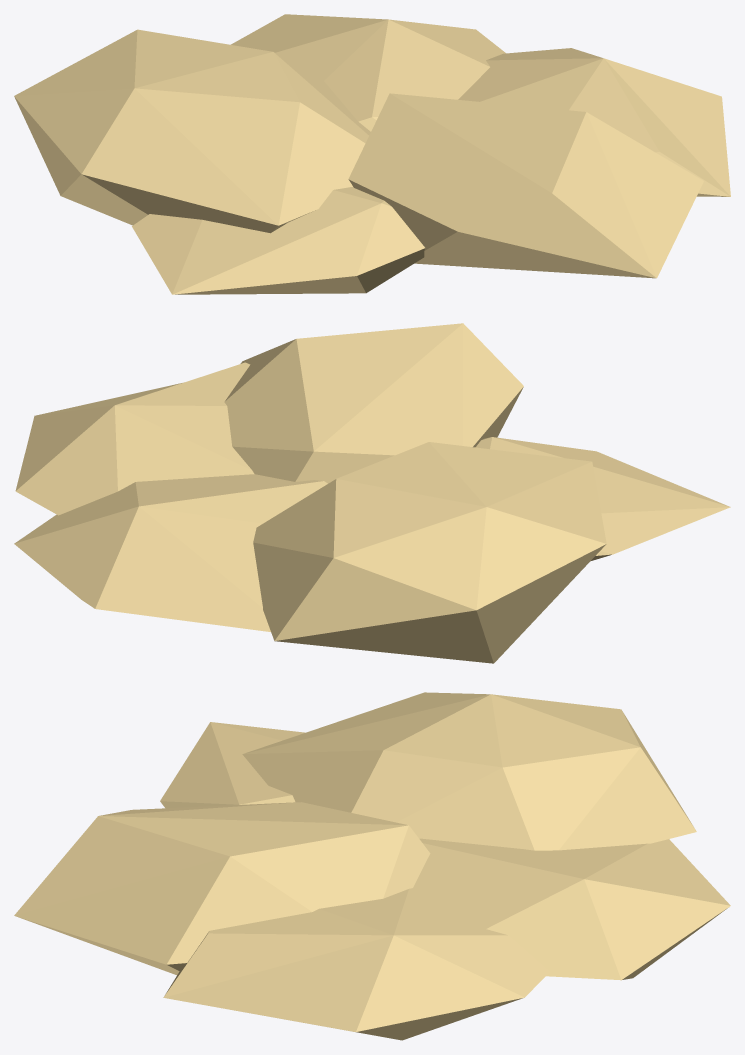
File: aq_shell_set.fbx
3 views of the same model, one above another, from view 1: azimuth 30°, elevation 25°; view 2: azimuth 150°, elevation 25°; view 3: azimuth 270°, elevation 25° (orthographic).
Parts seen in each view (by area): view 1: aq_shell_set; view 2: aq_shell_set; view 3: aq_shell_set.
Part boxes in pixels (bbox=[...]): aq_shell_set: bbox=[14, 14, 730, 294]; aq_shell_set: bbox=[14, 323, 730, 663]; aq_shell_set: bbox=[14, 692, 730, 1040].
Size of the model in its own units: 0.8 by 0.15 by 0.8.
